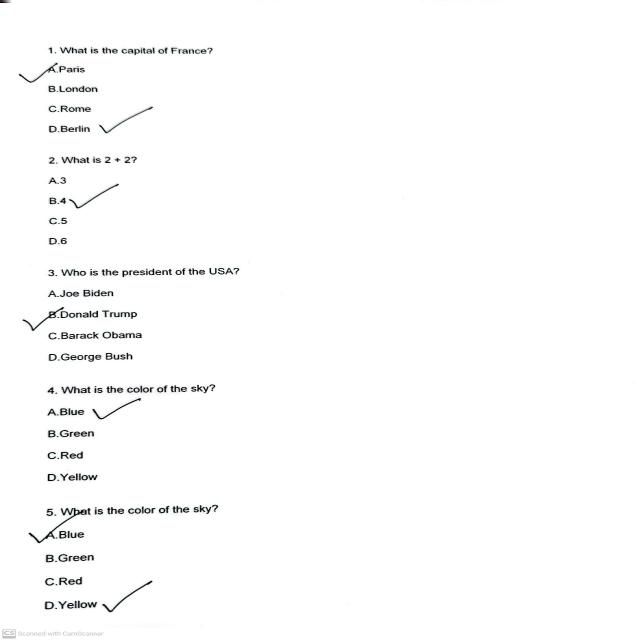Student_Ticked: (99, 580, 162, 613), (97, 106, 151, 133), (32, 513, 78, 542), (71, 186, 122, 210), (93, 395, 139, 420), (30, 305, 69, 331), (24, 61, 60, 87)
